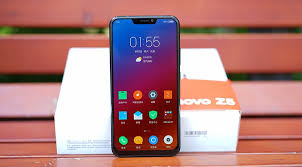lenovo: (105, 13, 186, 162)
